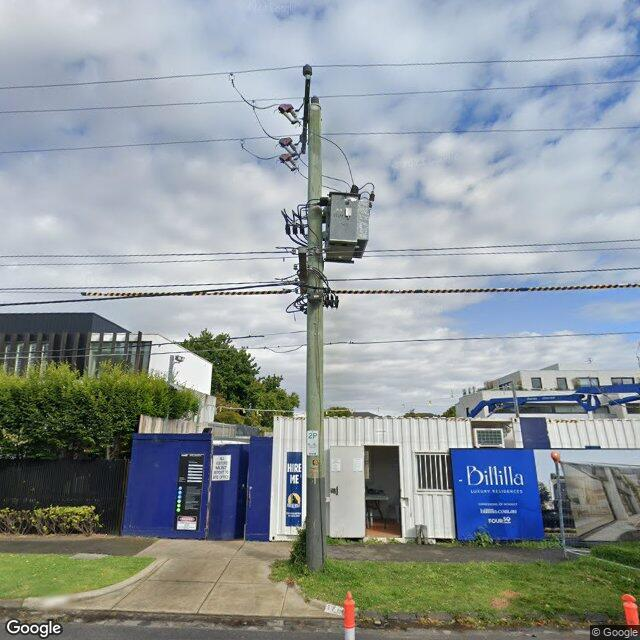HV-transmission: (228, 64, 320, 174)
crossarm: (300, 74, 312, 154), (291, 246, 307, 296)
timber-pole: (306, 105, 330, 573)
transformer: (280, 182, 376, 264)
